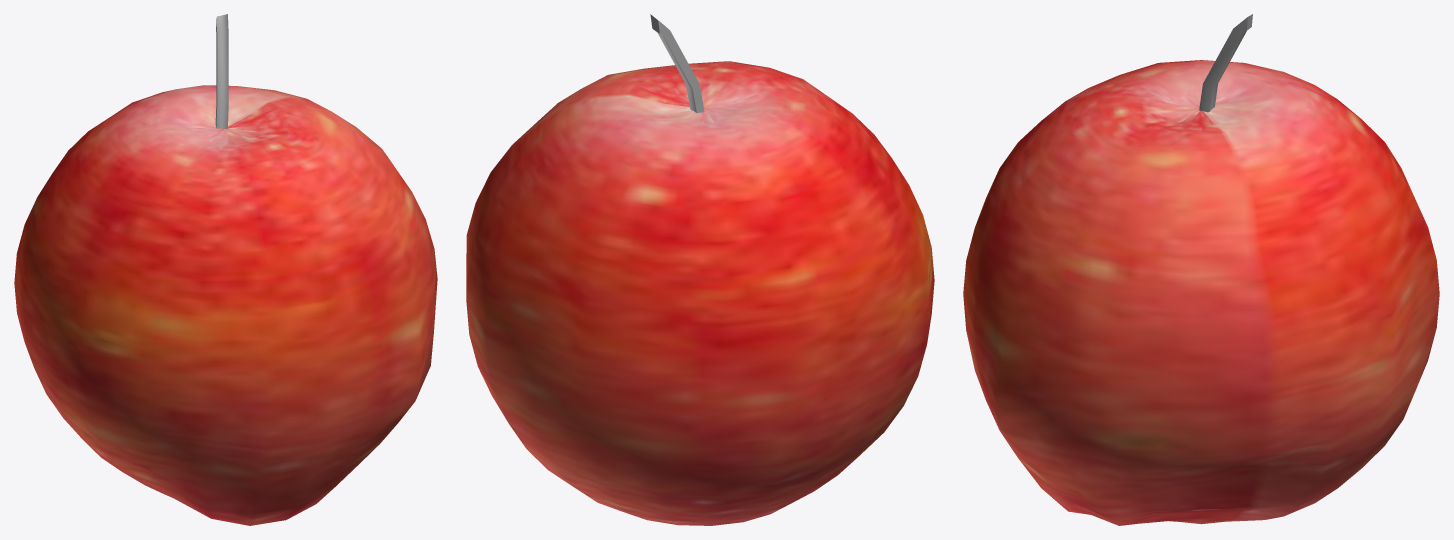
The model's file is Apfel.fbx.
3 views of the same model, side by side, from view 1: azimuth 30°, elevation 25°; view 2: azimuth 150°, elevation 25°; view 3: azimuth 270°, elevation 25° (orthographic). The views are drawn at different scales.
Visible parts, largest first — view 1: pSphere3; view 2: pSphere3; view 3: pSphere3.
Boxes of the visible parts, box(x1,y1,x2,y2) form: pSphere3: box(14, 14, 437, 525); pSphere3: box(466, 14, 934, 525); pSphere3: box(963, 14, 1439, 525).
Bounding box in the file's own units: 5.7 × 6.72 × 5.77.
2 materials, 1 textured.
